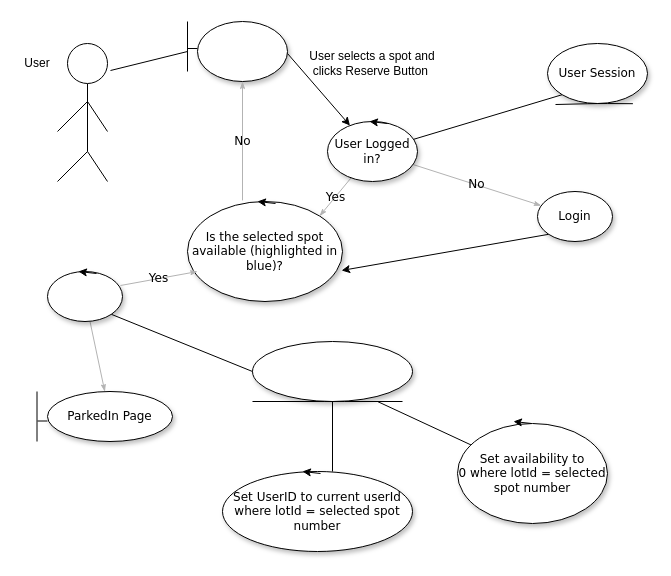
Image size: 671x576. Some labels were removed from this diagram. The centre of each missing label's shape, as x and y in pixels:
Display: (x=85, y=297)
Home Page: (x=243, y=52)
Lot: (x=333, y=372)
